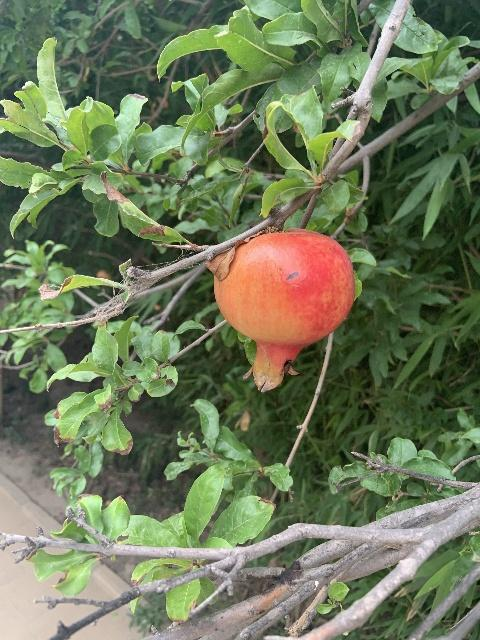ripe: (213, 228, 355, 391)
